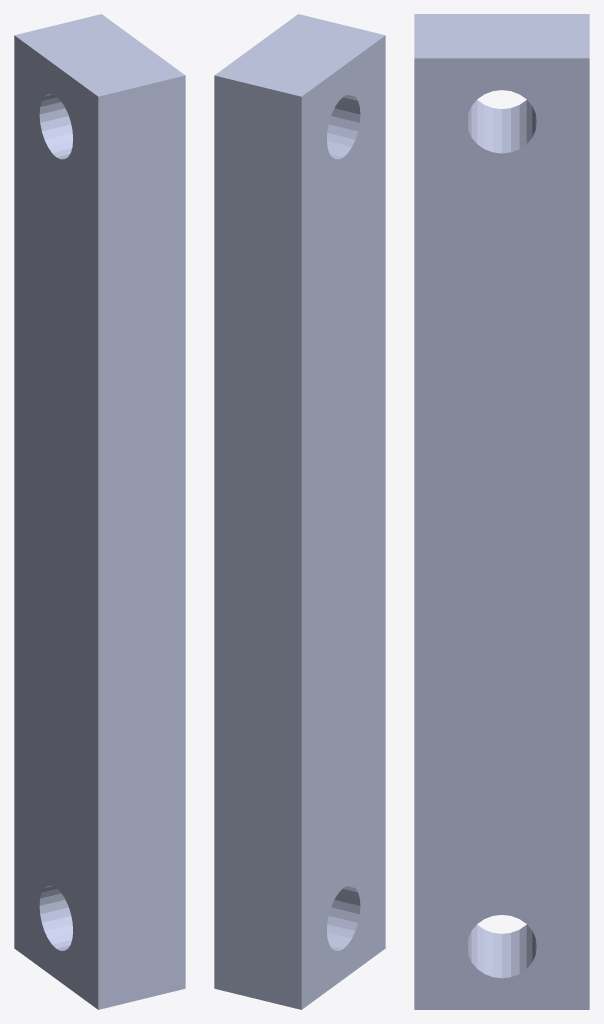
The picture shows the model from 3 angles, left to right: view 1: azimuth 30°, elevation 25°; view 2: azimuth 150°, elevation 25°; view 3: azimuth 270°, elevation 25°; orthographic projection. The views are drawn at different scales.
Visible parts, largest first — view 1: node0; view 2: node0; view 3: node0.
Part boxes in pixels (box(x1,y1,x2,y2)): node0: box(14, 14, 185, 1009); node0: box(214, 14, 385, 1009); node0: box(414, 14, 589, 1009).
Bounding box in the file's own units: 0.03 × 0.05 × 0.3.
